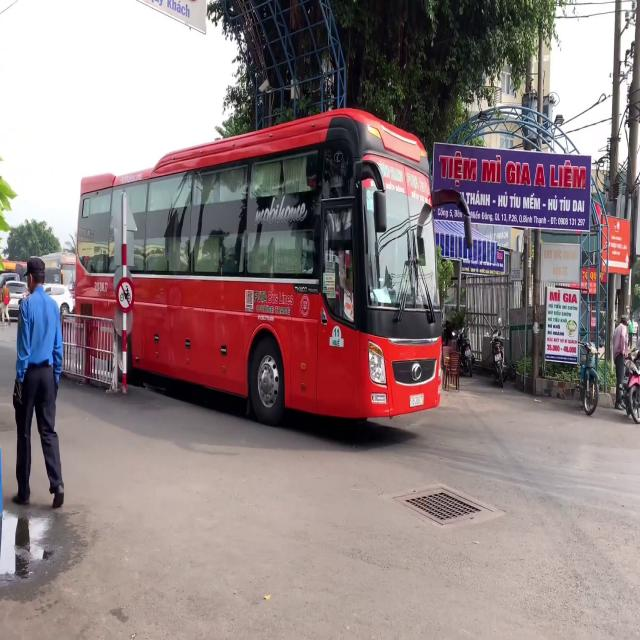bien_trang: (408, 394, 424, 406)
